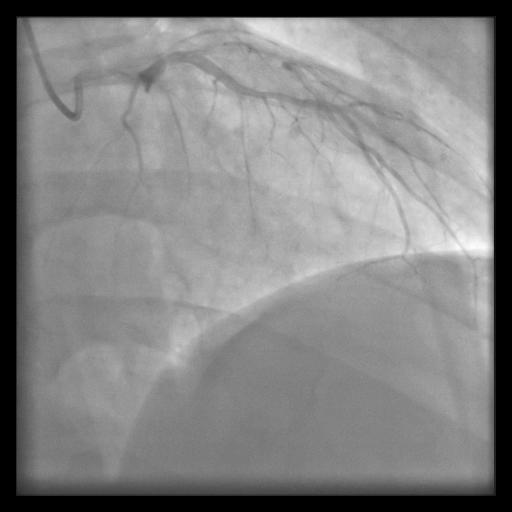Stenosis: (121, 67, 151, 94)
